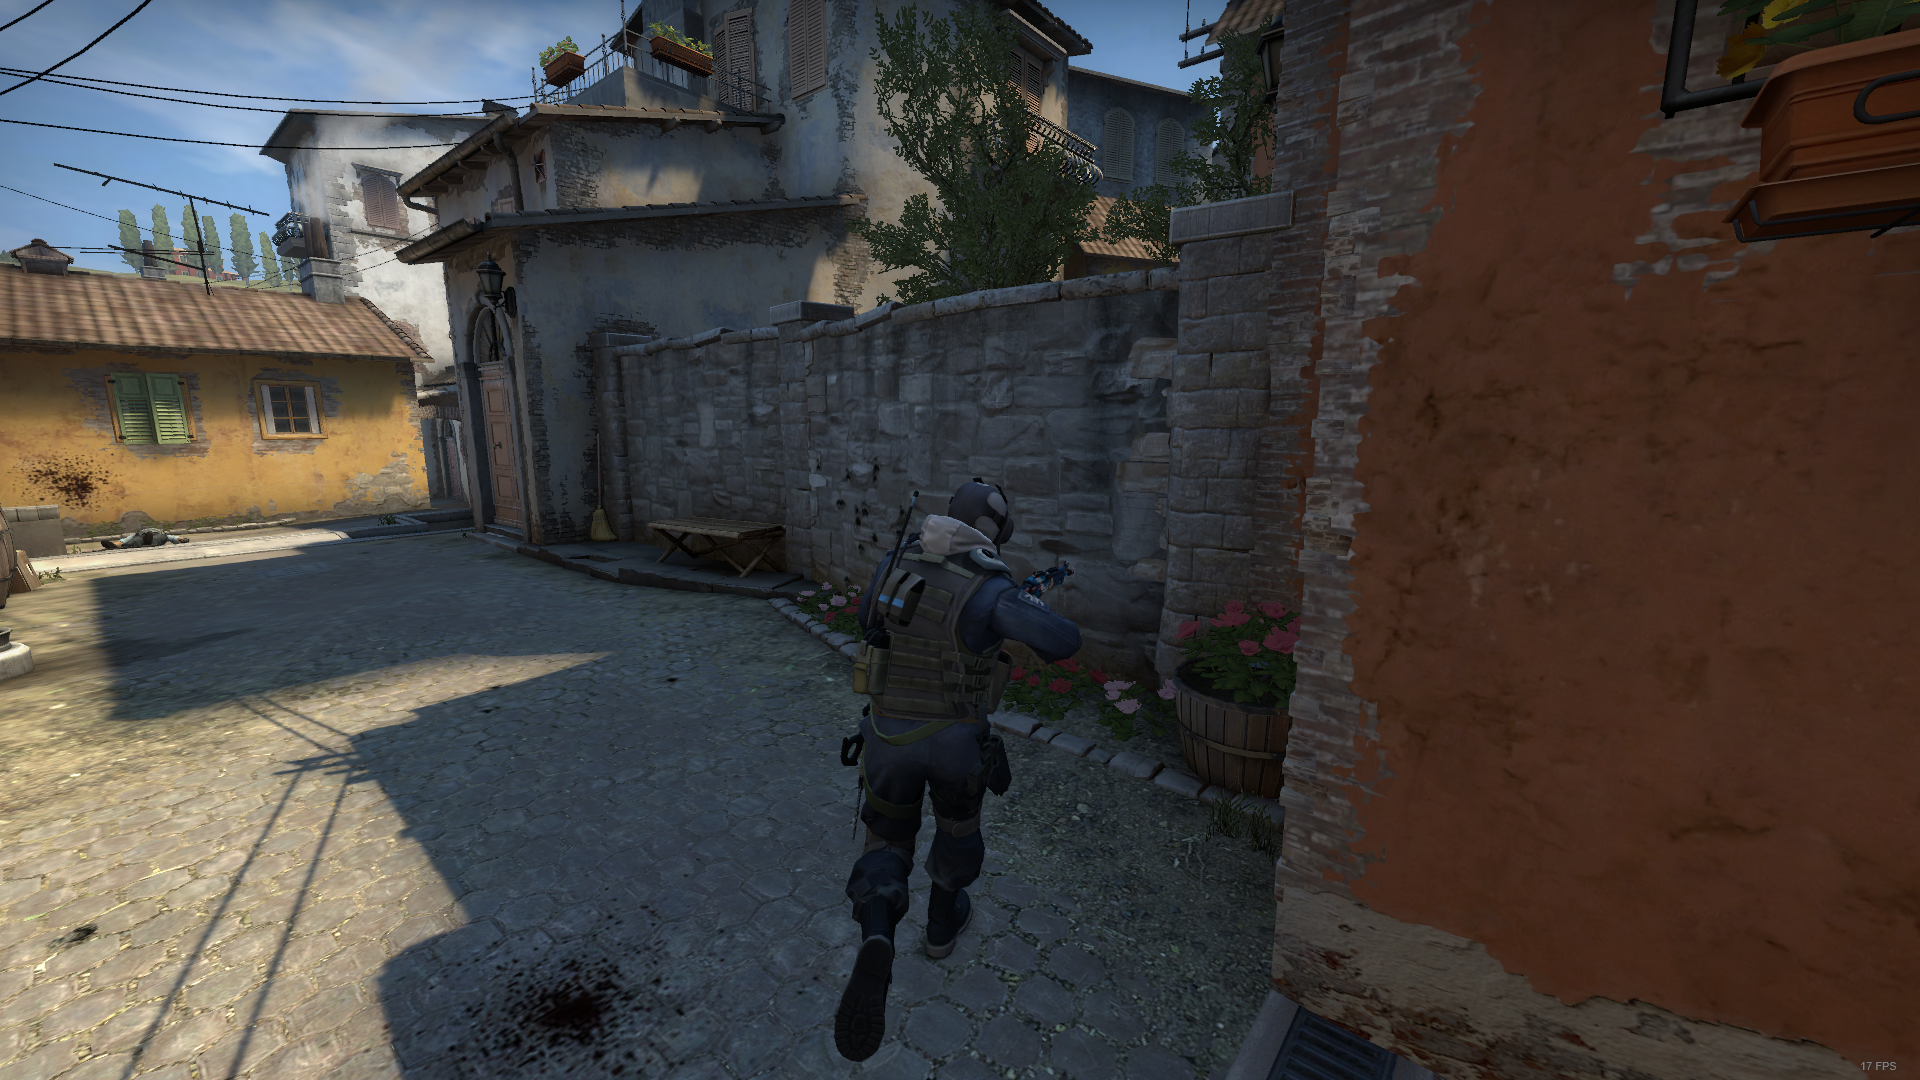ct: (835, 475, 1084, 1069)
